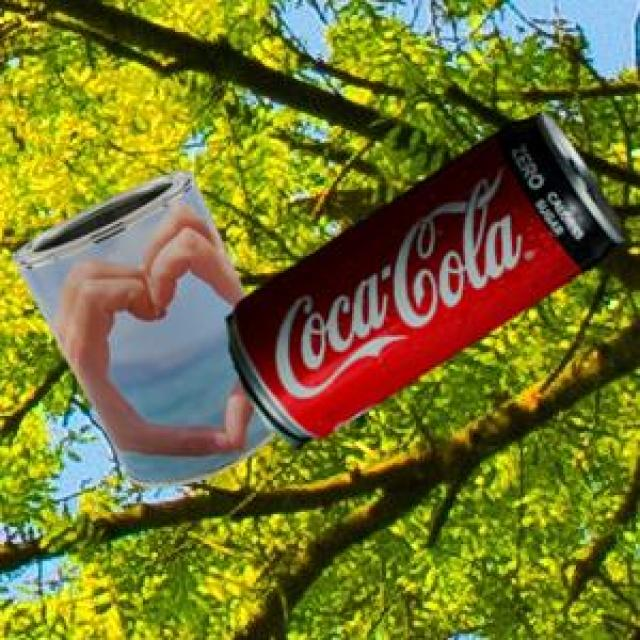logam: (223, 110, 622, 447), (10, 167, 274, 485)
